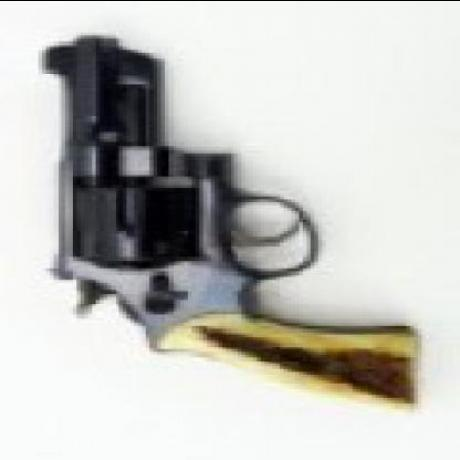weapon: (36, 31, 418, 412)
